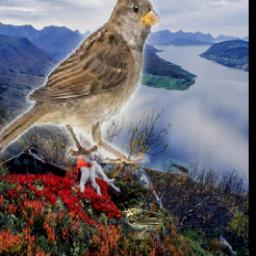Sparrow: (0, 0, 160, 163), (121, 206, 180, 241)
